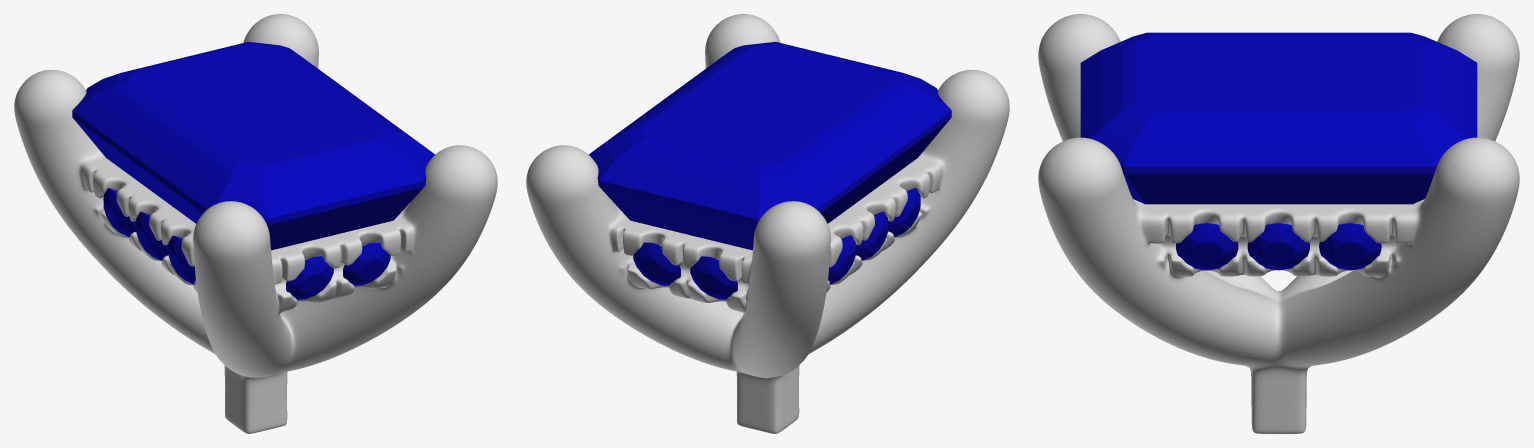
Rendered from Emerald.glb.
3 renders of one model, left to right at view 1: azimuth 30°, elevation 25°; view 2: azimuth 150°, elevation 25°; view 3: azimuth 270°, elevation 25°, orthographic. The views are drawn at different scales.
Visible parts, largest first — view 1: /GSMOD388300-HIDDEN HALO_EMERALD_IJ.3dm, Diamond_Emerald, Diamond_Round (×5); view 2: /GSMOD388300-HIDDEN HALO_EMERALD_IJ.3dm, Diamond_Emerald, Diamond_Round (×5); view 3: /GSMOD388300-HIDDEN HALO_EMERALD_IJ.3dm, Diamond_Emerald, Diamond_Round (×3).
Boxes of the visible parts, x1,y1,x2,y2 form: /GSMOD388300-HIDDEN HALO_EMERALD_IJ.3dm: (14, 14, 497, 433); Diamond_Emerald: (72, 42, 434, 250); Diamond_Round (×5): (103, 188, 390, 299); /GSMOD388300-HIDDEN HALO_EMERALD_IJ.3dm: (526, 14, 1009, 433); Diamond_Emerald: (588, 41, 951, 250); Diamond_Round (×5): (633, 188, 920, 299); /GSMOD388300-HIDDEN HALO_EMERALD_IJ.3dm: (1038, 14, 1519, 433); Diamond_Emerald: (1080, 32, 1477, 204); Diamond_Round (×3): (1176, 223, 1381, 270).
Bounding box in the file's own units: 7.15 × 7.36 × 9.15.
